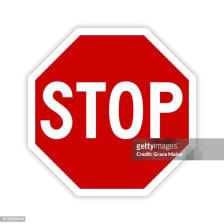Stop-sign: (25, 20, 200, 200)
